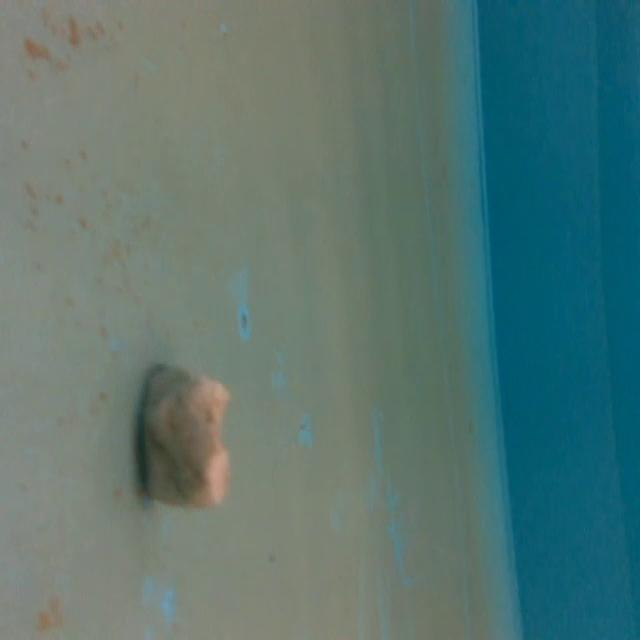rock: (130, 358, 242, 515)
